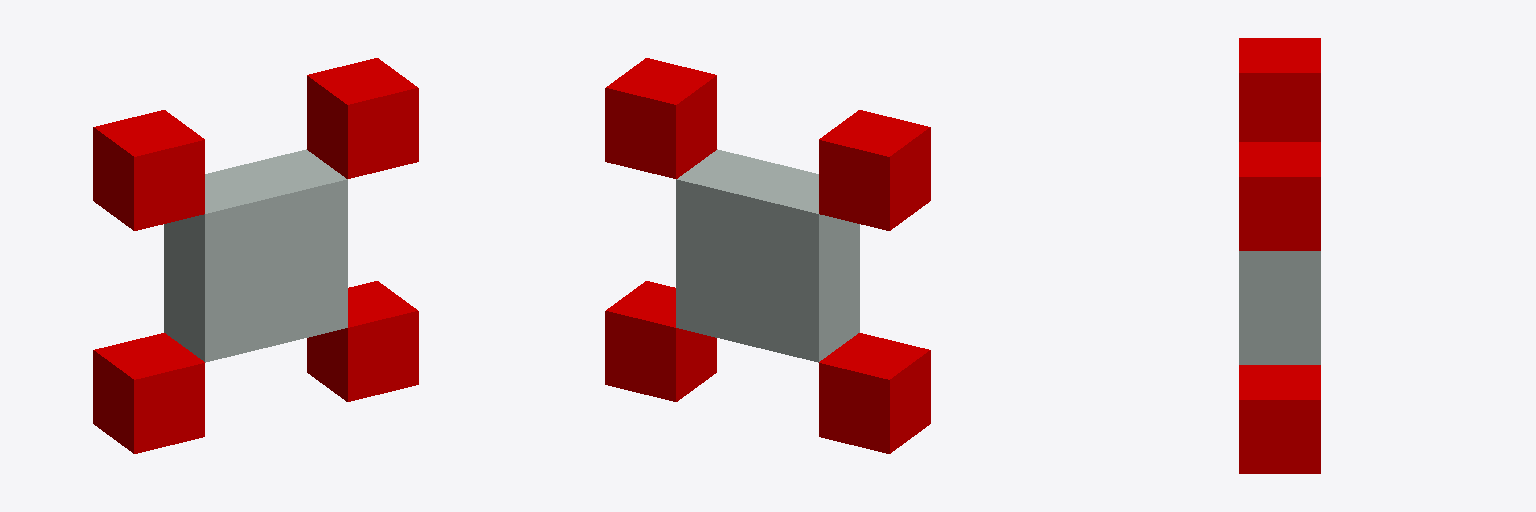
The picture shows the model from 3 angles: view 1: azimuth 30°, elevation 25°; view 2: azimuth 150°, elevation 25°; view 3: azimuth 270°, elevation 25°; orthographic projection.
Visible parts, largest first — view 1: object 1; view 2: object 1; view 3: object 1.
Part boxes in pixels (x1,y1,x2,y2): object 1: (93, 58, 418, 453); object 1: (605, 58, 930, 453); object 1: (1239, 38, 1320, 473).
Size of the model in its own units: 0.4 by 0.4 by 0.1.
Materials: 1 (1 with a texture image).